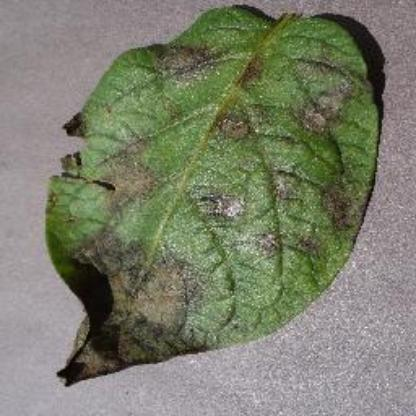Late-Blight: (42, 14, 394, 396)
